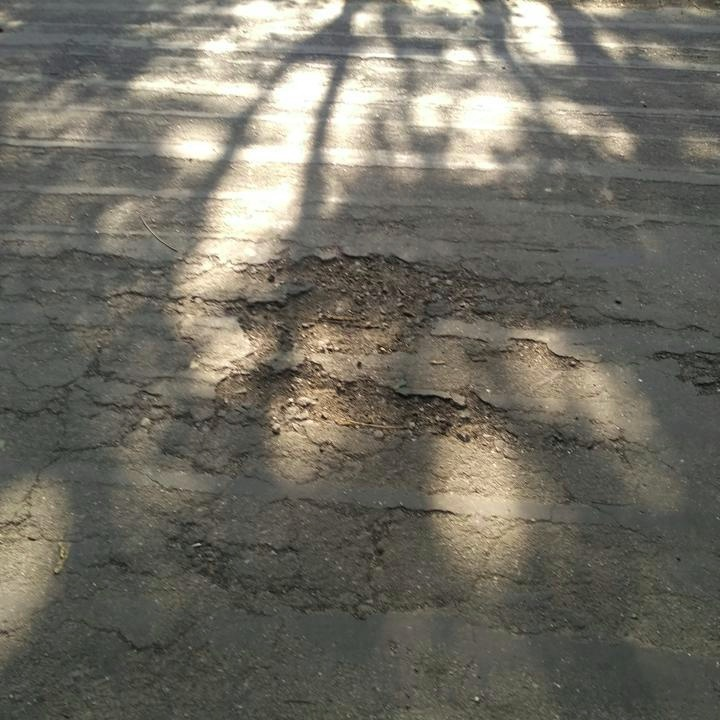pothole: (225, 250, 487, 358), (210, 361, 508, 454)
